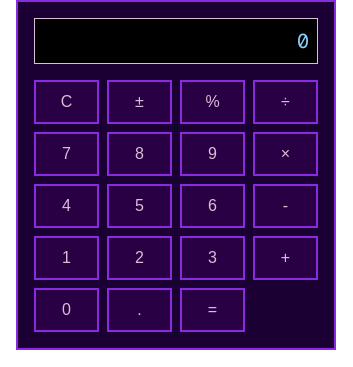
it: Calculatory › doit mettre à jour l'affichage lorsqu'on saisit un nombre
Click the button "7" at (66, 154), box [34,132,99,176]
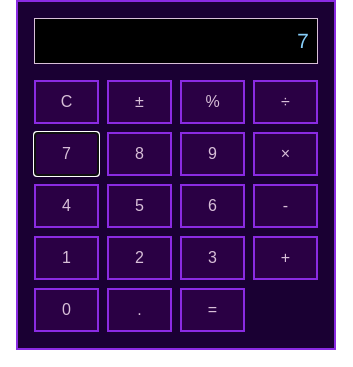
Click the button "5" at (140, 206), box [107,184,172,228]
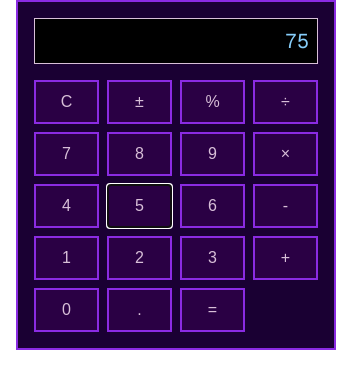
Expected: the message reads "75", [285,28,309,54]
